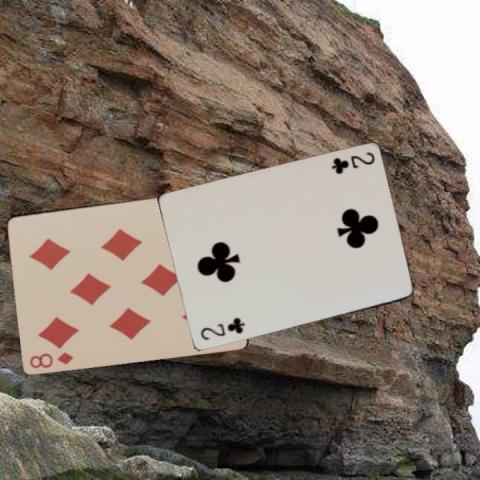2c: (197, 315, 246, 342), (328, 150, 376, 176)
8d: (26, 349, 74, 369)
